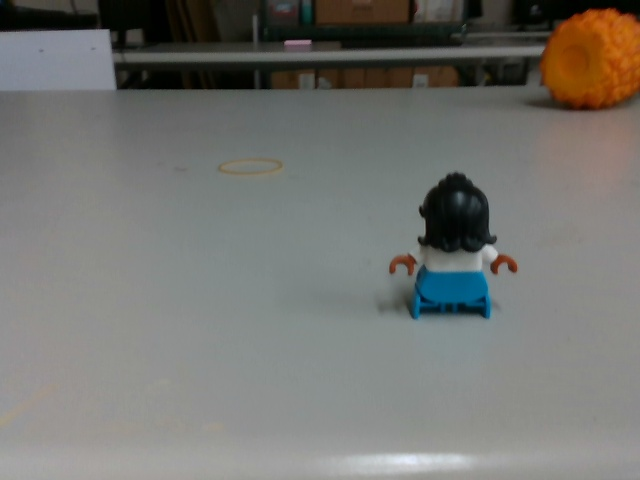people: (387, 169, 524, 328)
